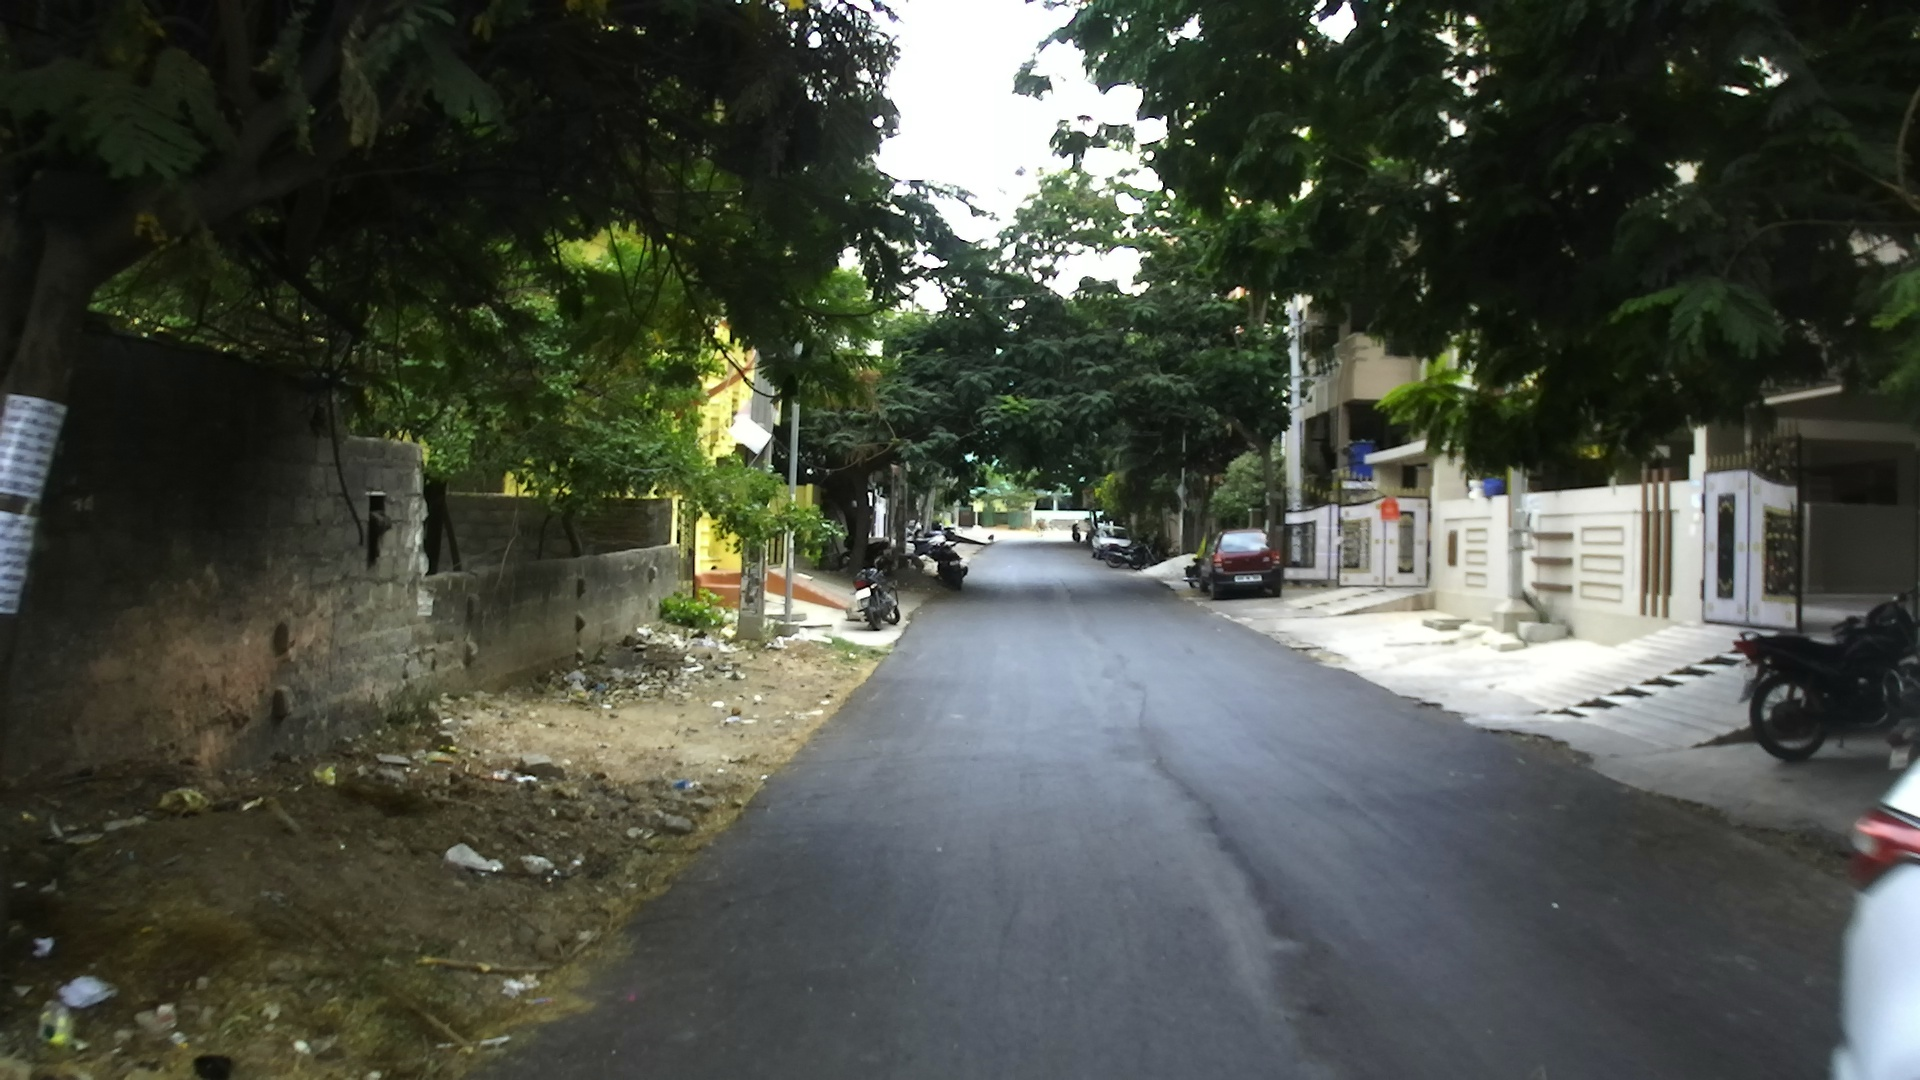vehicle: (1731, 589, 1919, 764), (1834, 684, 1919, 1069), (1207, 529, 1284, 597), (1087, 517, 1133, 564), (1091, 527, 1134, 566)
